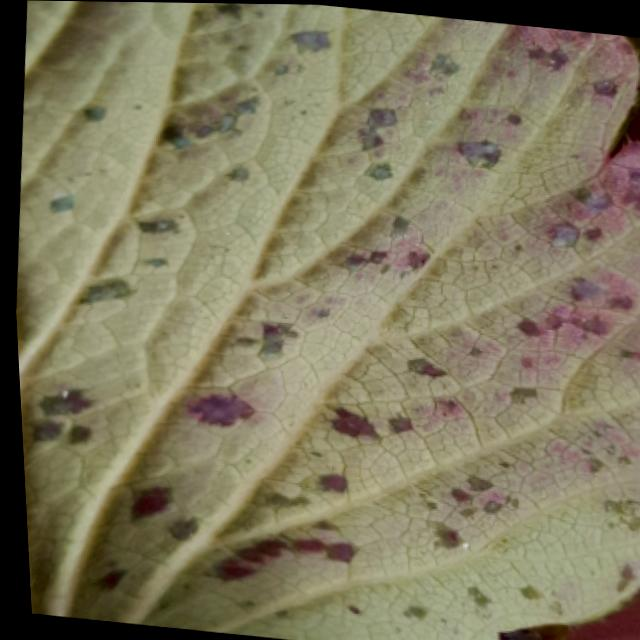Angular Leafspot: (25, 1, 640, 640)
